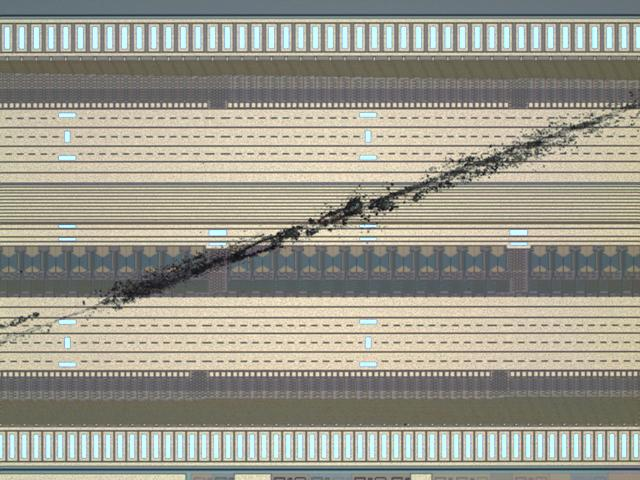SCRATCH: (1, 92, 640, 353)
